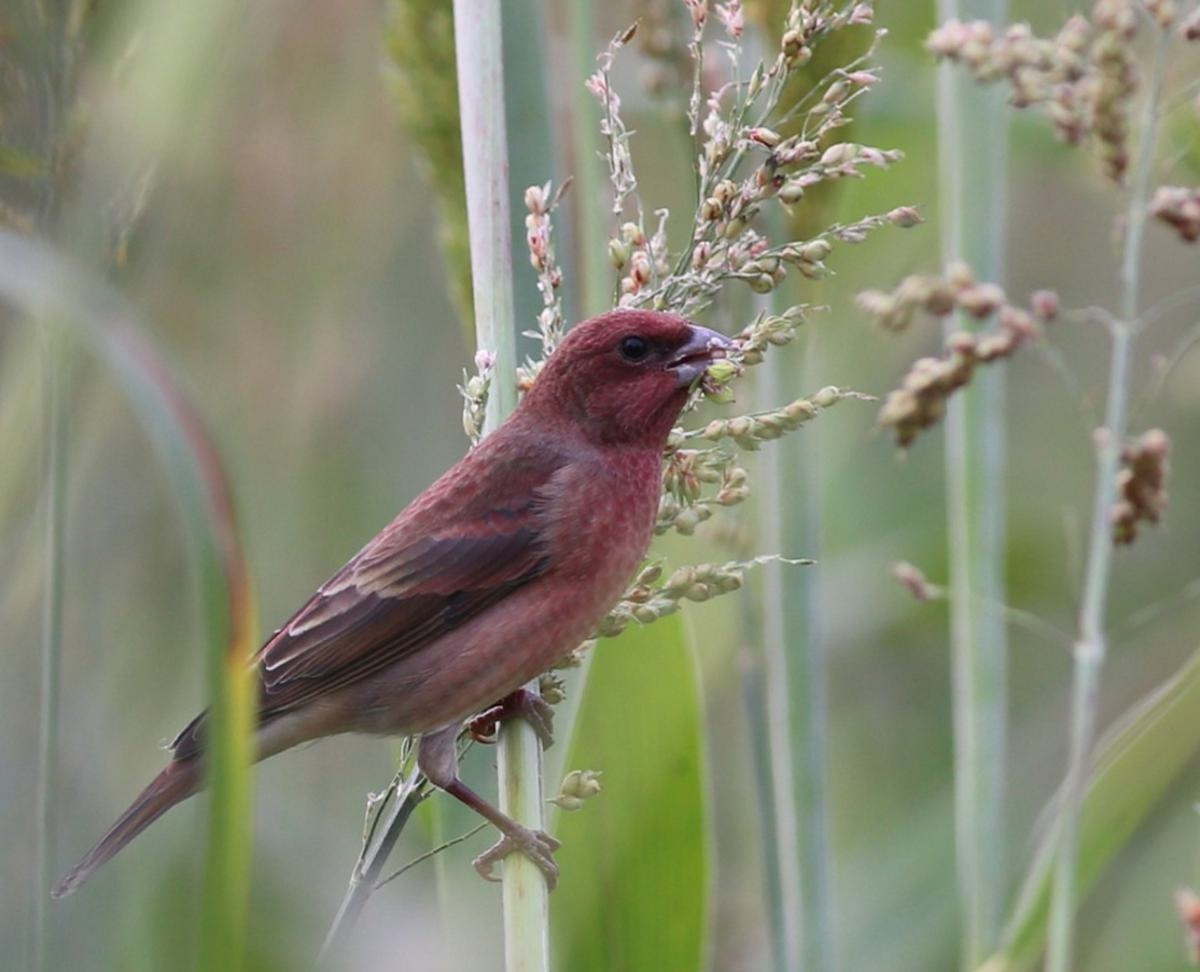rosefinch: (171, 295, 755, 824)
